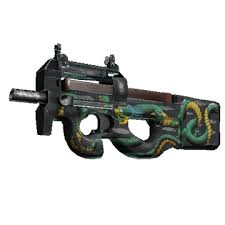gun: (6, 42, 221, 162)
